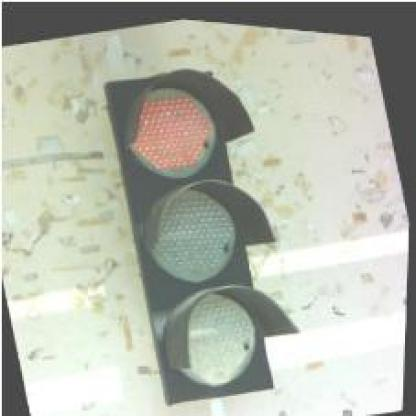red: (89, 45, 314, 413)
